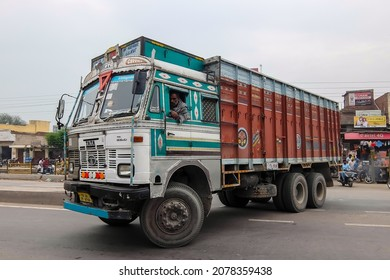motorbike: (340, 167, 356, 187)
truck: (55, 36, 342, 249)
